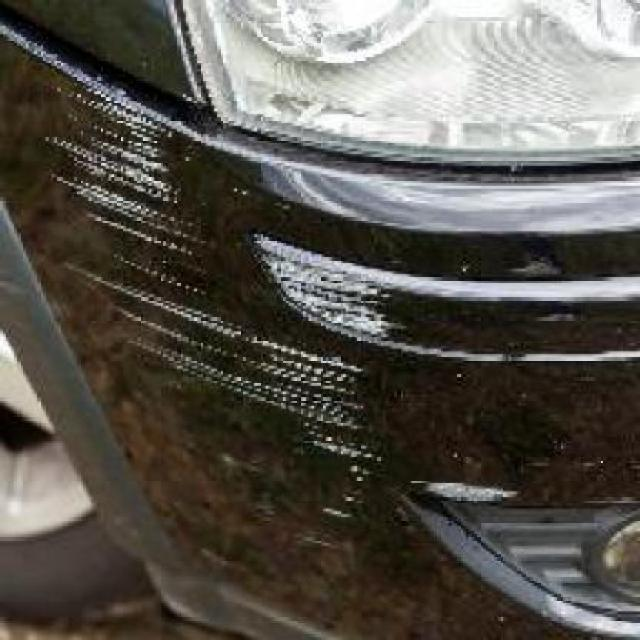dent-or-scratch: (120, 249, 378, 543), (50, 88, 202, 301)
